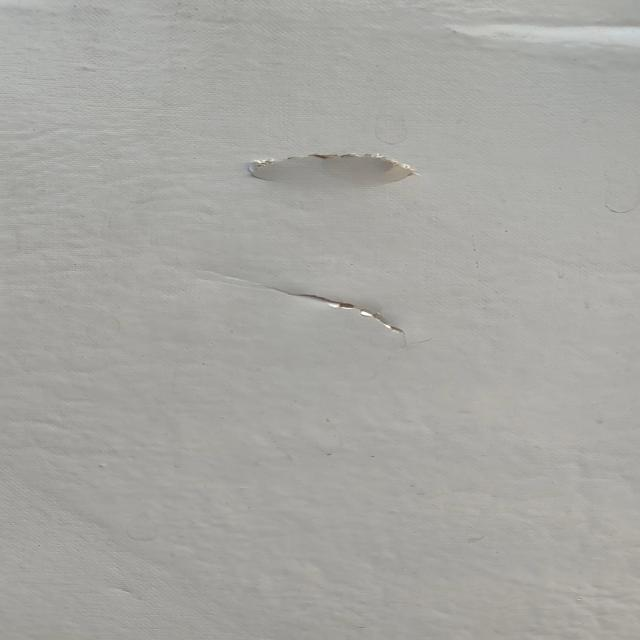Dents or Deformation: (429, 5, 640, 50)
Scratches: (219, 134, 497, 200), (240, 277, 491, 349)
